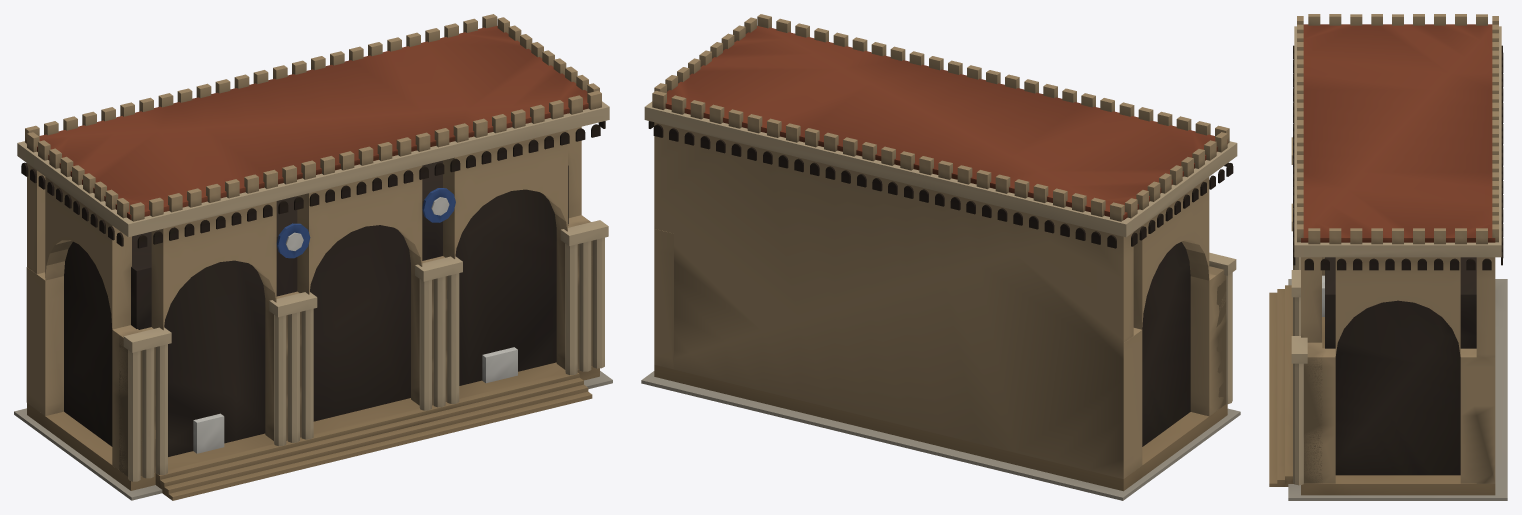
The model's file is loggia-lanzi-1600.glb.
3 renders of one model, left to right at view 1: azimuth 30°, elevation 25°; view 2: azimuth 150°, elevation 25°; view 3: azimuth 270°, elevation 25°, orthographic. The views are drawn at different scales.
Parts seen in each view (by area): view 1: p0_platform, p2_terrace, p1_arches, p3_statues; view 2: p0_platform, p2_terrace, p1_arches; view 3: p2_terrace, p0_platform, p1_arches.
Boxes of the visible parts, box(x1,y1,x2,y2) form: p0_platform: box(14, 160, 612, 500); p2_terrace: box(17, 14, 609, 248); p1_arches: box(26, 126, 608, 481); p3_statues: box(193, 347, 517, 453); p0_platform: box(641, 122, 1240, 500); p2_terrace: box(644, 14, 1237, 248); p1_arches: box(654, 177, 1236, 478); p2_terrace: box(1293, 14, 1503, 270); p0_platform: box(1269, 257, 1507, 500); p1_arches: box(1291, 137, 1495, 485).
Bounding box in the file's own units: 39.22 × 22.34 × 17.95.
